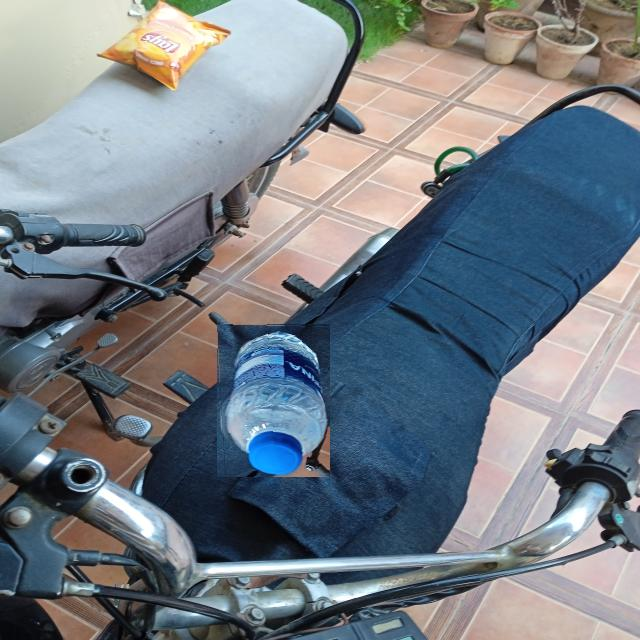Plastic: (216, 323, 330, 477)
